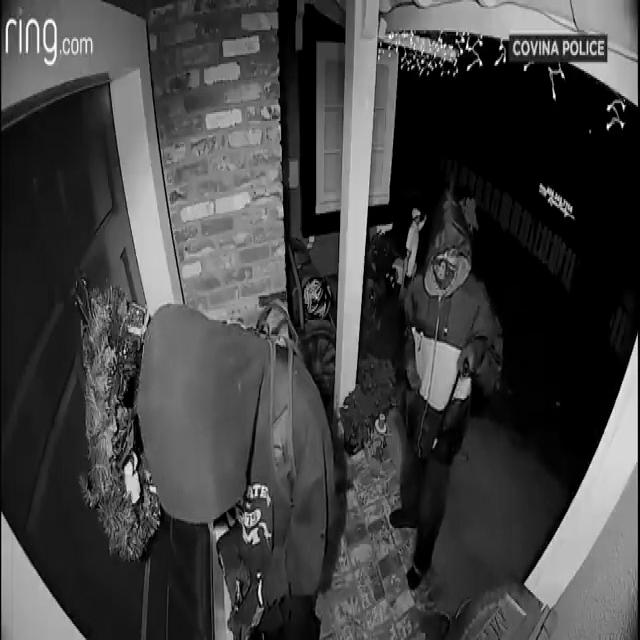weapon: (126, 281, 358, 640), (380, 165, 512, 598)
